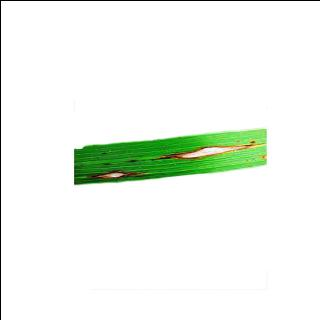Blast: (156, 134, 244, 164), (94, 156, 146, 180)
